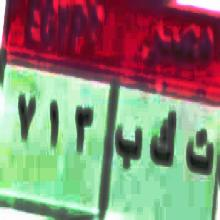1: (42, 97, 62, 153)
3: (72, 101, 98, 158)
7: (16, 82, 36, 150)
baa: (115, 124, 146, 176)
kaaf: (148, 107, 180, 182)
taa: (183, 122, 215, 184)
